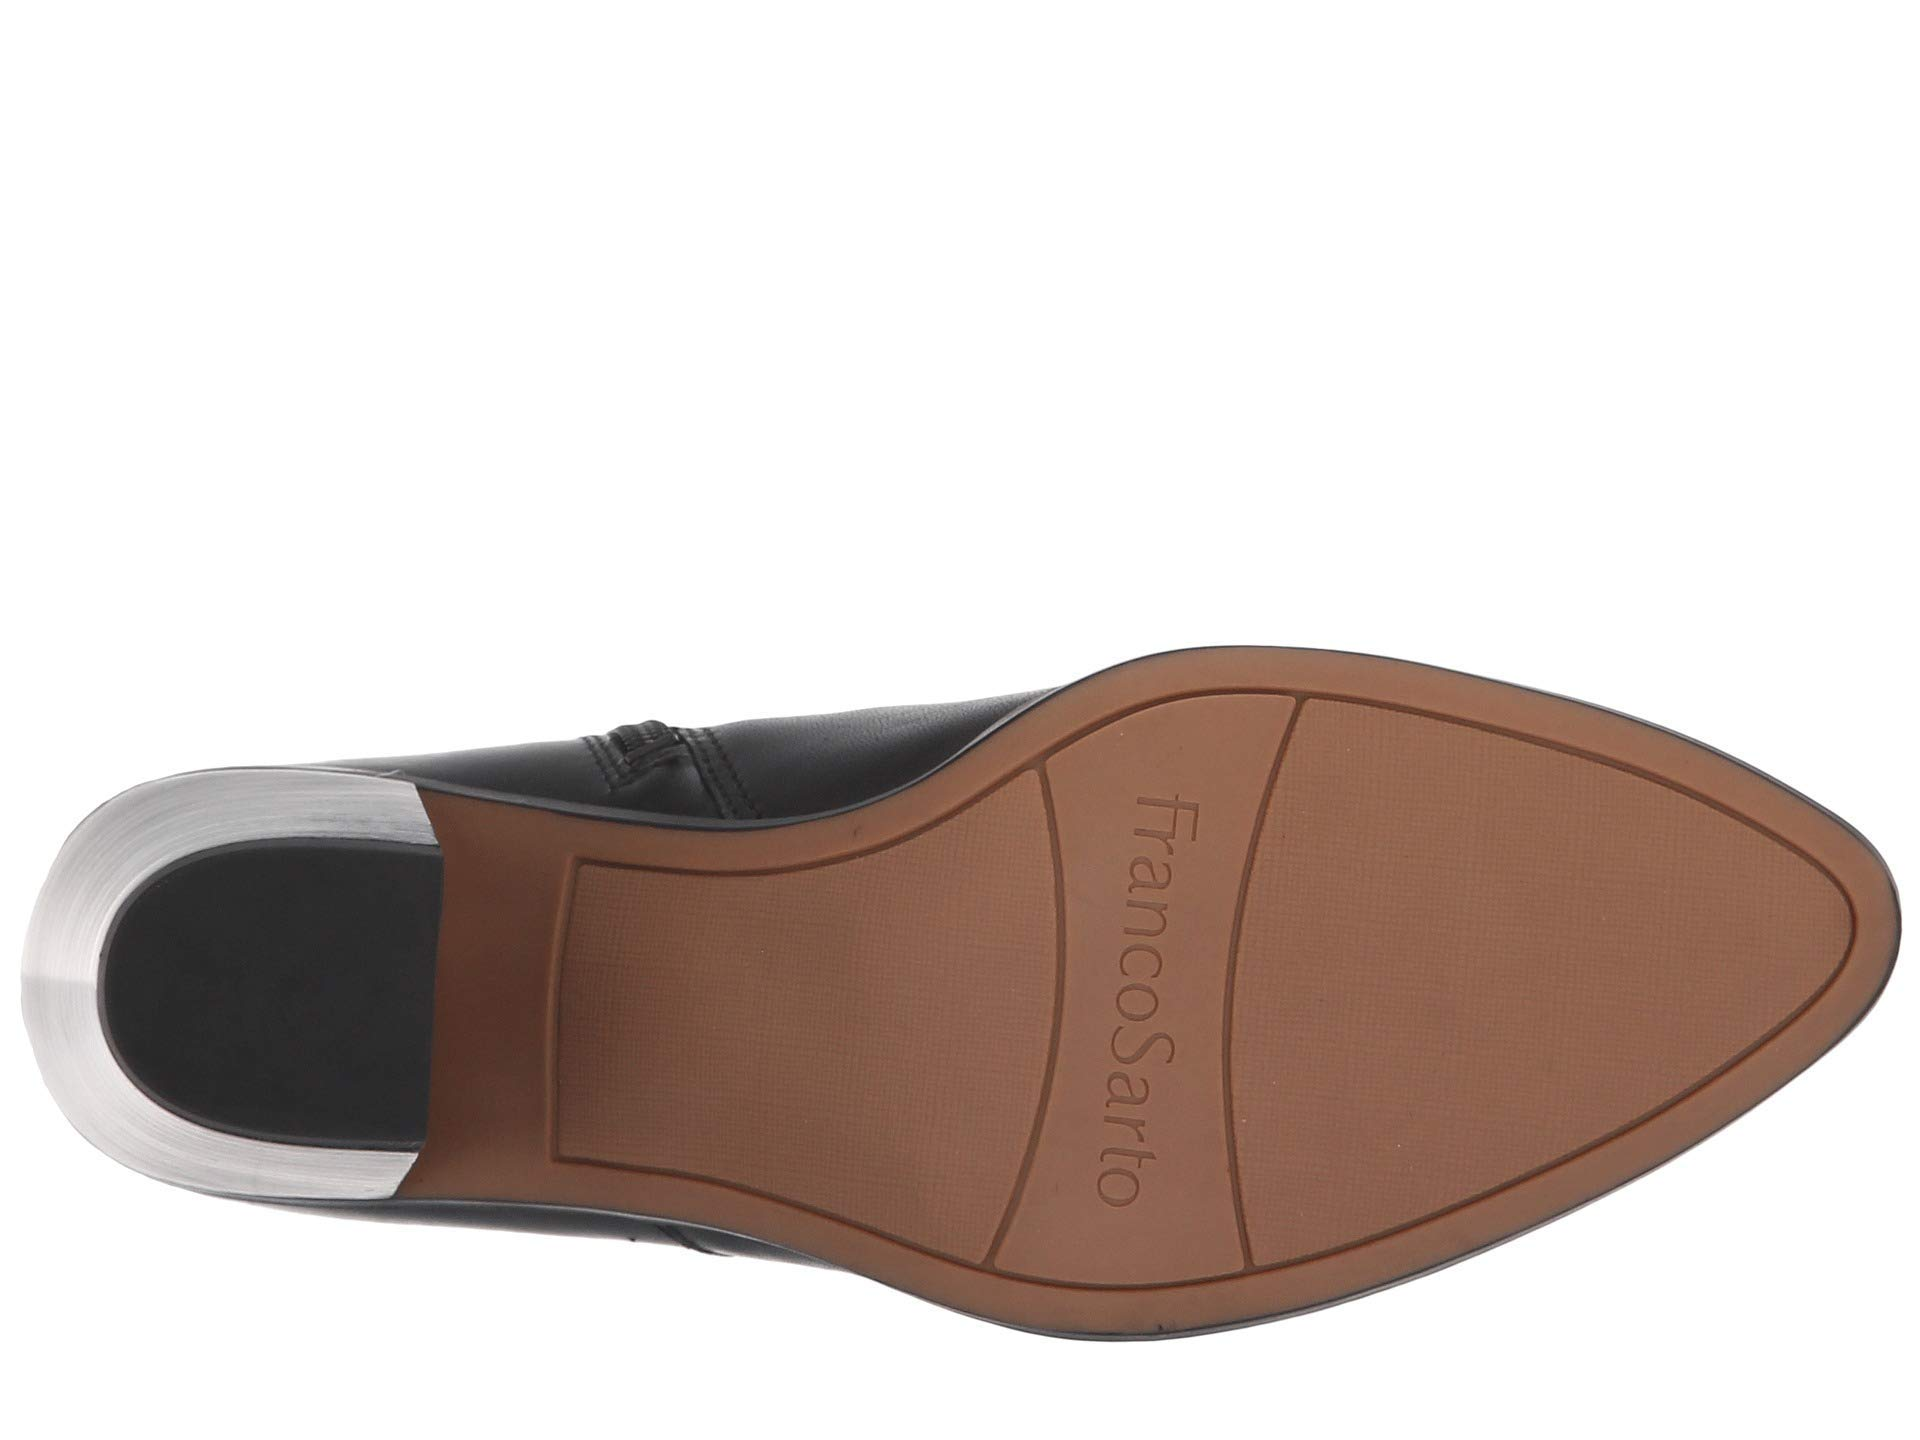circle: (1064, 781, 1391, 1082), (983, 1050, 1250, 1295)
text: (1064, 781, 1391, 1082), (983, 1050, 1250, 1295)
